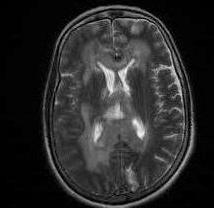Normal_Brain: (1, 1, 214, 208)
